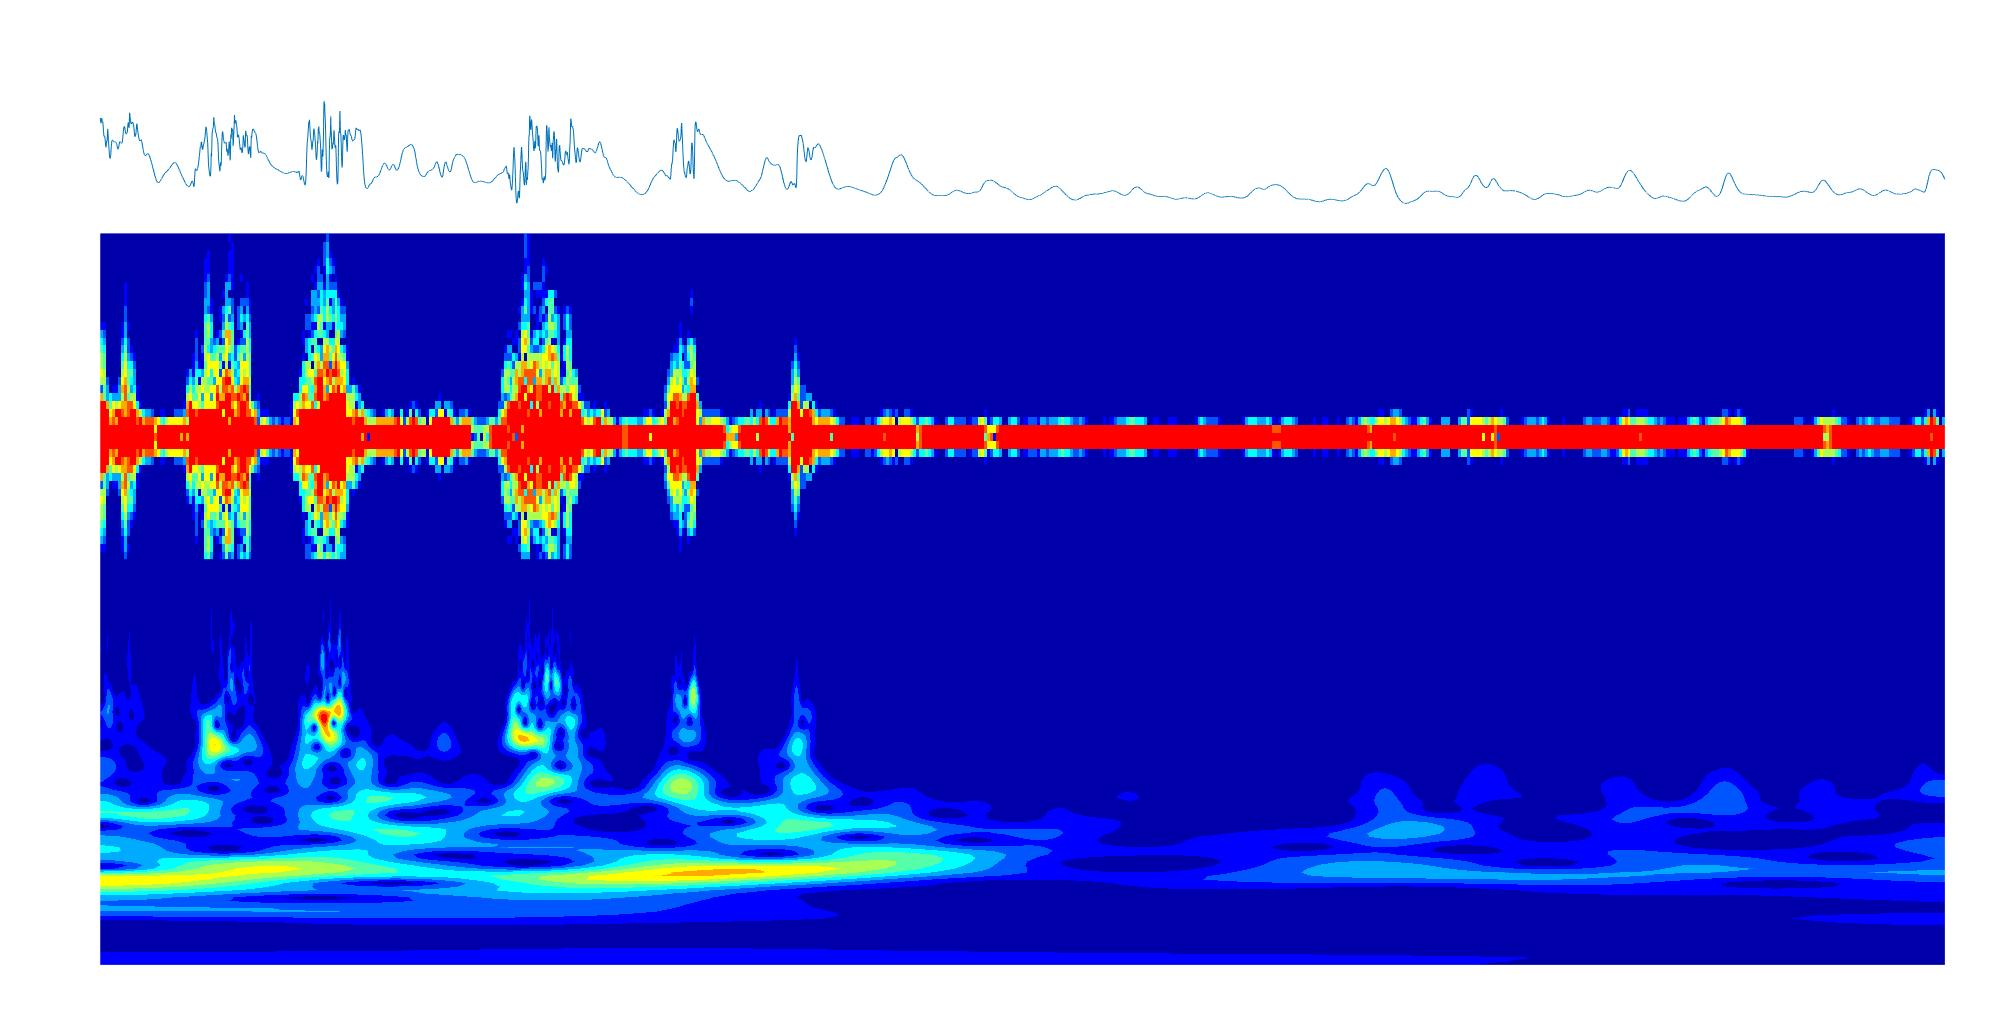TURBULENT: (504, 233, 578, 963), (192, 233, 264, 963), (300, 235, 356, 965), (100, 232, 146, 964), (664, 233, 701, 967)
